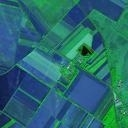alloviz: (79, 44, 93, 57)
